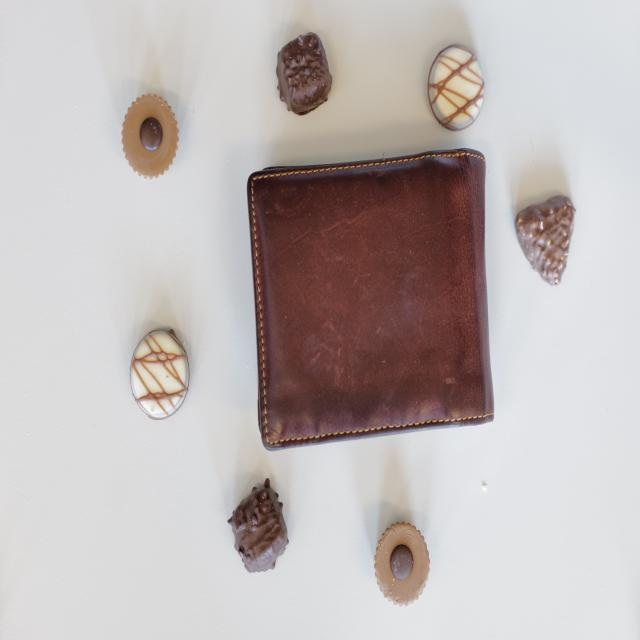Creme_brulee: (130, 327, 189, 422), (426, 42, 485, 130)
Noblesse: (122, 92, 180, 178), (373, 520, 431, 606)
Tentation_noir: (228, 480, 290, 575), (274, 30, 332, 114)
Triangolo: (512, 190, 579, 288)
